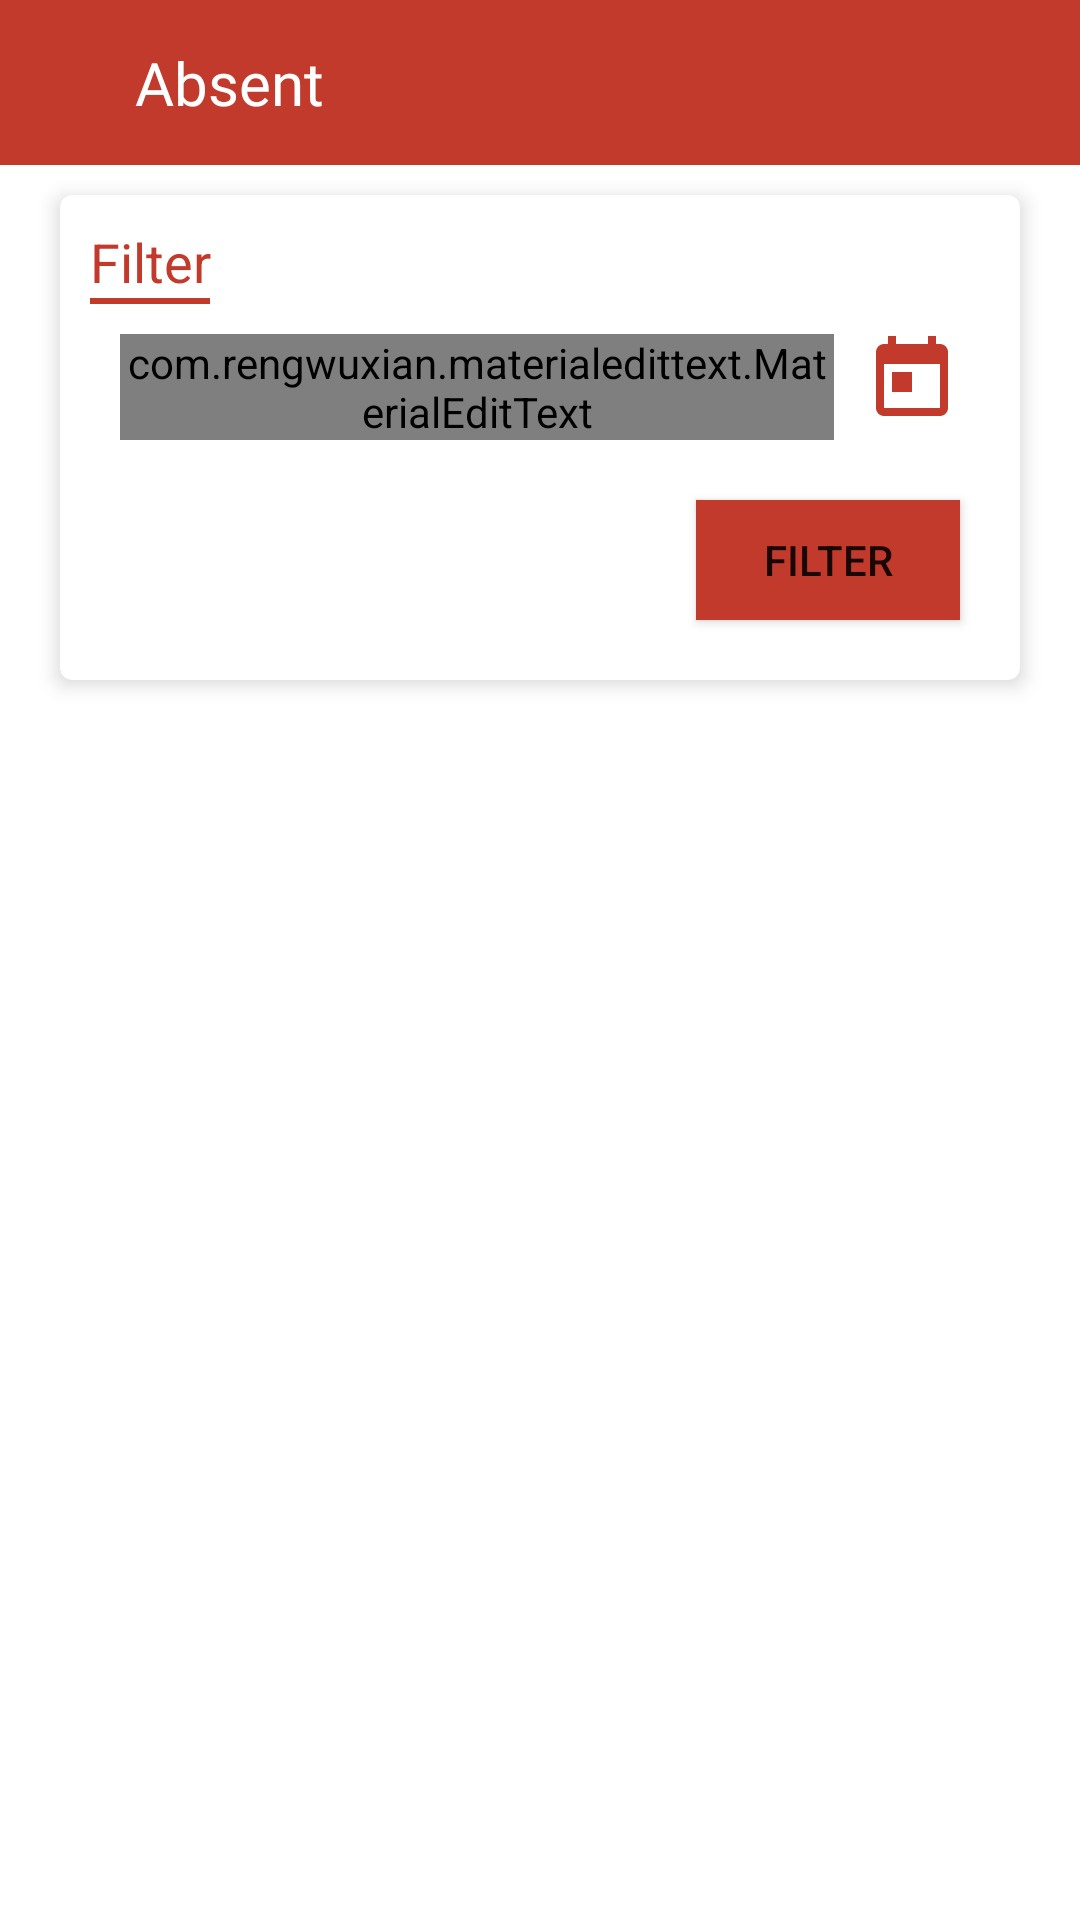

Screen size 1080px x 1920px. Icon name, then its box in pixels as {"x1": x1, "y1": y1, "x2": x2, "y2": y2}:
date: {"x1": 876, "y1": 336, "x2": 948, "y2": 416}
